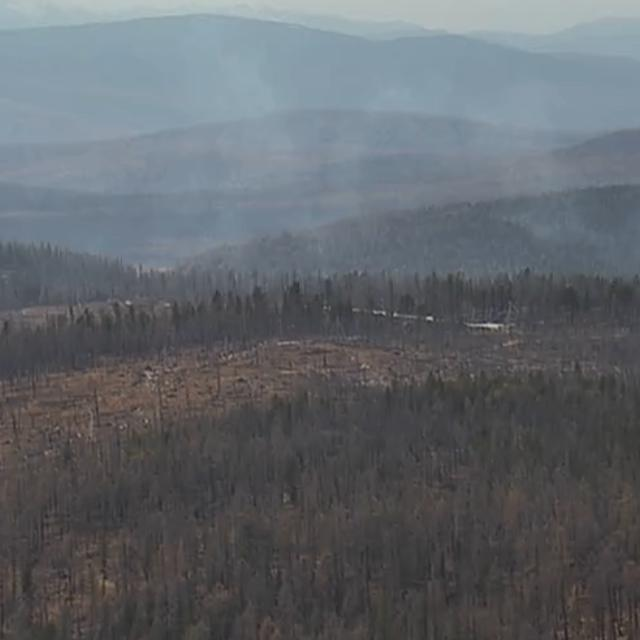Smoke: (0, 42, 640, 285)
